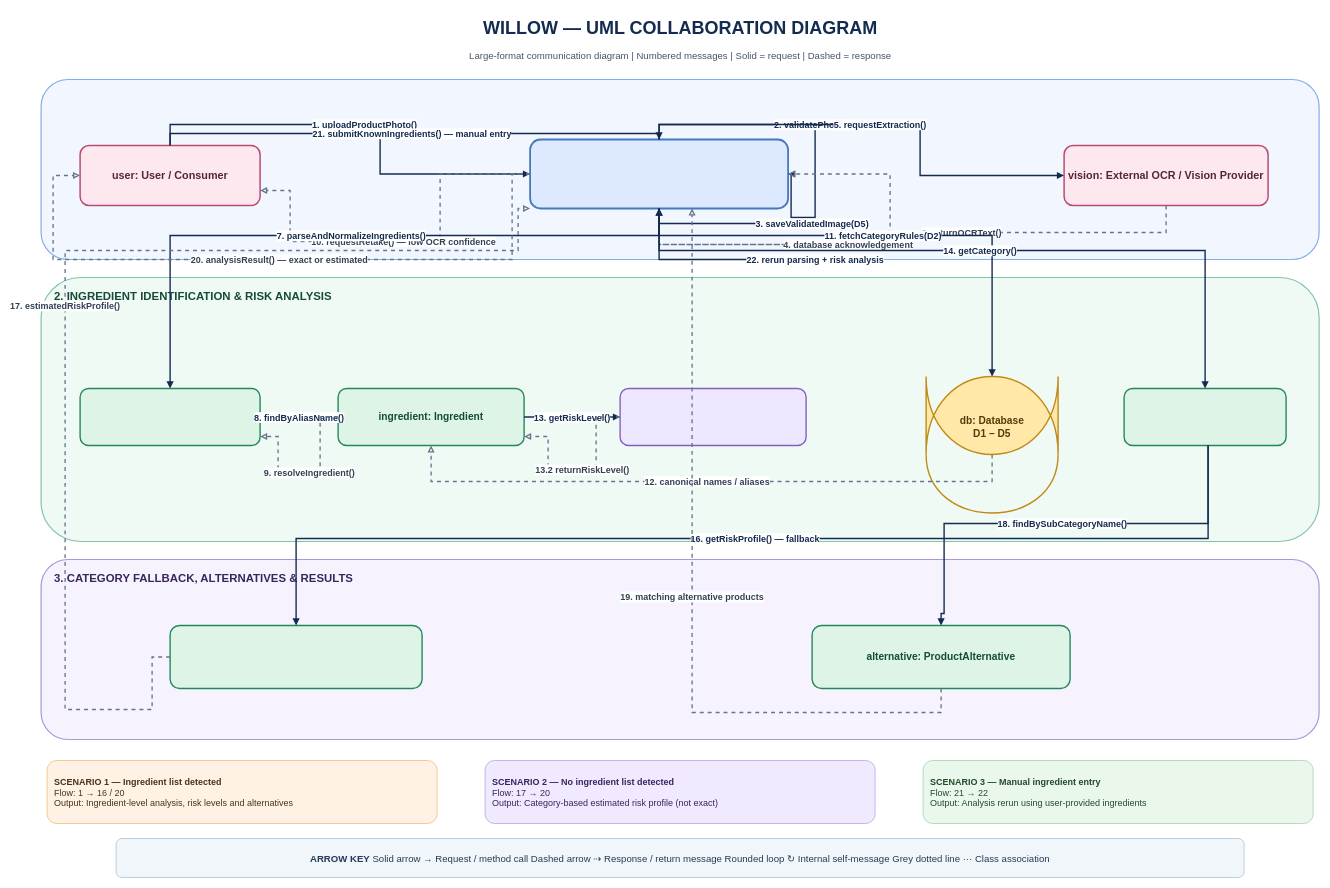
Image size: 1330x888. Some labels were removed from this diagram. The shapes that lost their labels are listed below. From the top down, each one's box as (x1, y1, x2, y2) in pixels, then its label:
(529, 138, 789, 209): willow: Willow Main System
(40, 79, 1319, 260): 1. INPUT & OCR EXTRACTION
(79, 388, 261, 446): alias: IngredientAlias
(619, 388, 807, 446): riskLevel: RiskLevel LOW / MEDIUM / HIGH
(1123, 388, 1287, 446): category: Category
(169, 625, 423, 689): riskProfile: CategoryRiskProfile
